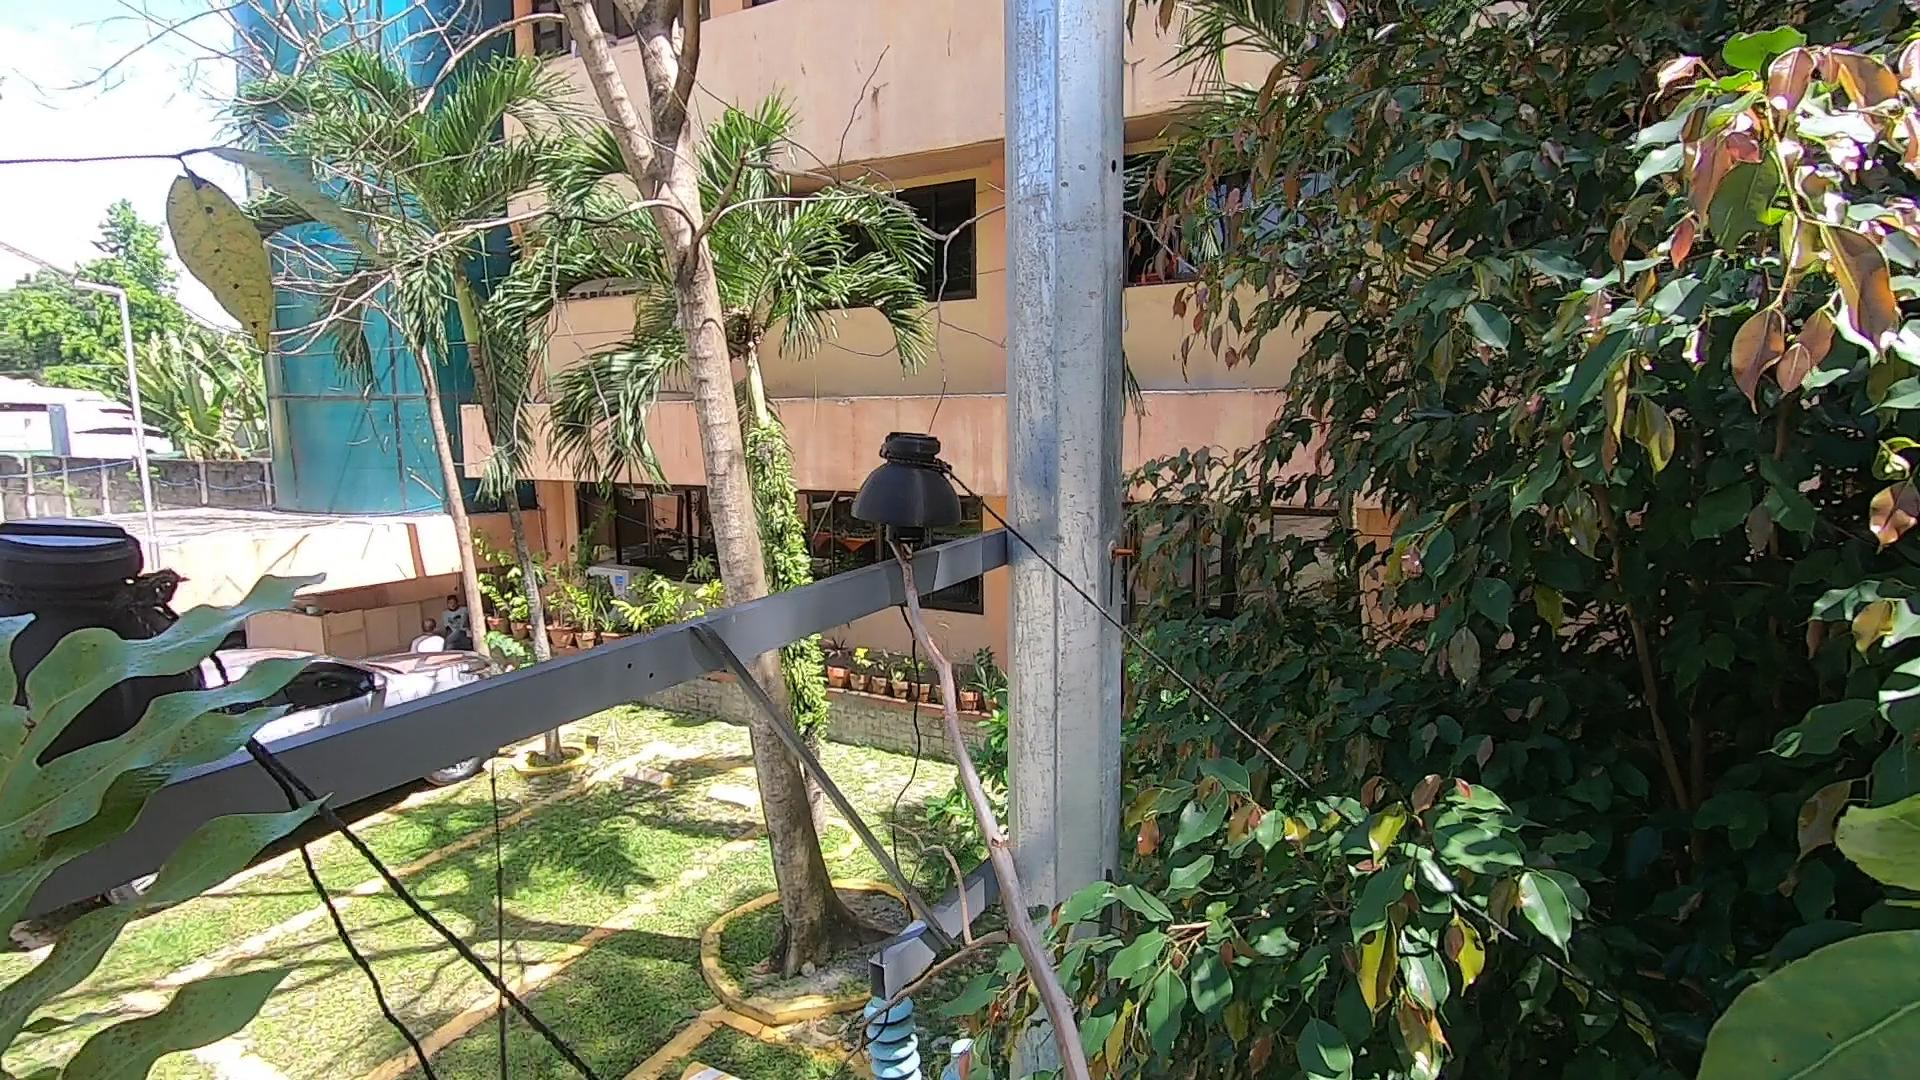branch with leaves: (945, 897, 1199, 1080)
leaf: (3, 564, 404, 1080)
tree branch: (880, 518, 1139, 1080)
